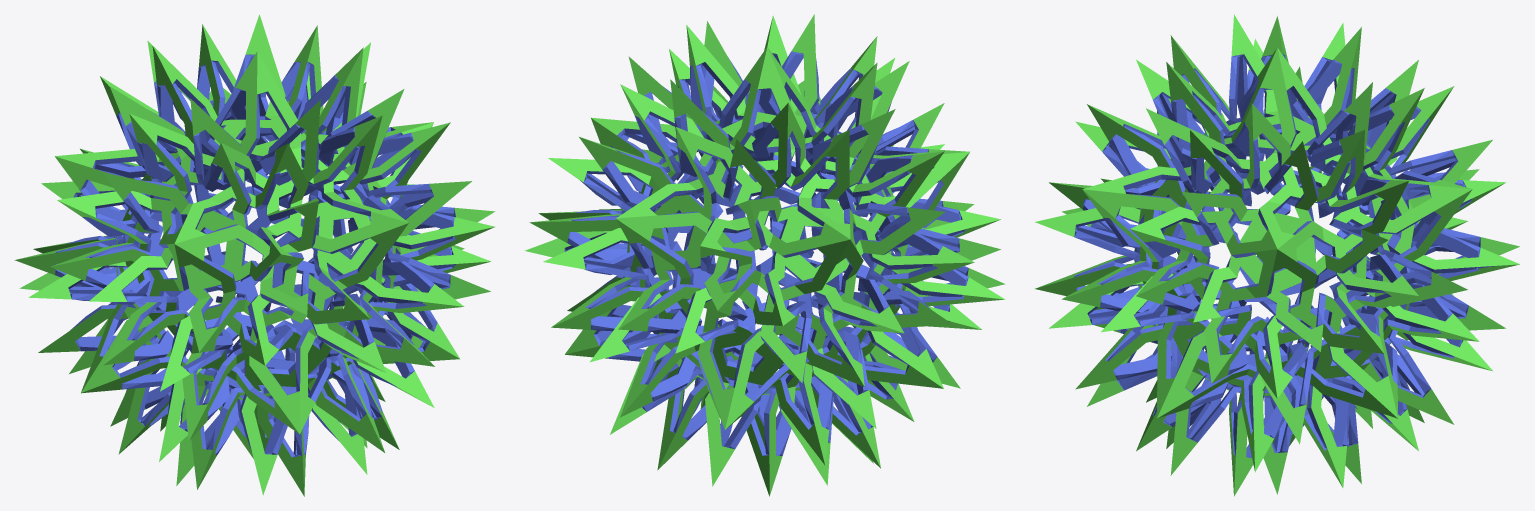
Rendered from StarPolyknotSnubDodecahedron1.glb.
3 renders of one model, left to right at view 1: azimuth 30°, elevation 25°; view 2: azimuth 150°, elevation 25°; view 3: azimuth 270°, elevation 25°, orthographic.
Visible parts, largest first — view 1: ESSCHER_BBBa_A13; view 2: ESSCHER_BBBa_A13; view 3: ESSCHER_BBBa_A13.
Part boxes in pixels (left/top/right/bottom): ESSCHER_BBBa_A13: left=14, top=14, right=495, bottom=496; ESSCHER_BBBa_A13: left=524, top=14, right=1005, bottom=496; ESSCHER_BBBa_A13: left=1035, top=14, right=1519, bottom=496.
Bounding box in the file's own units: 158 × 150 × 159.
